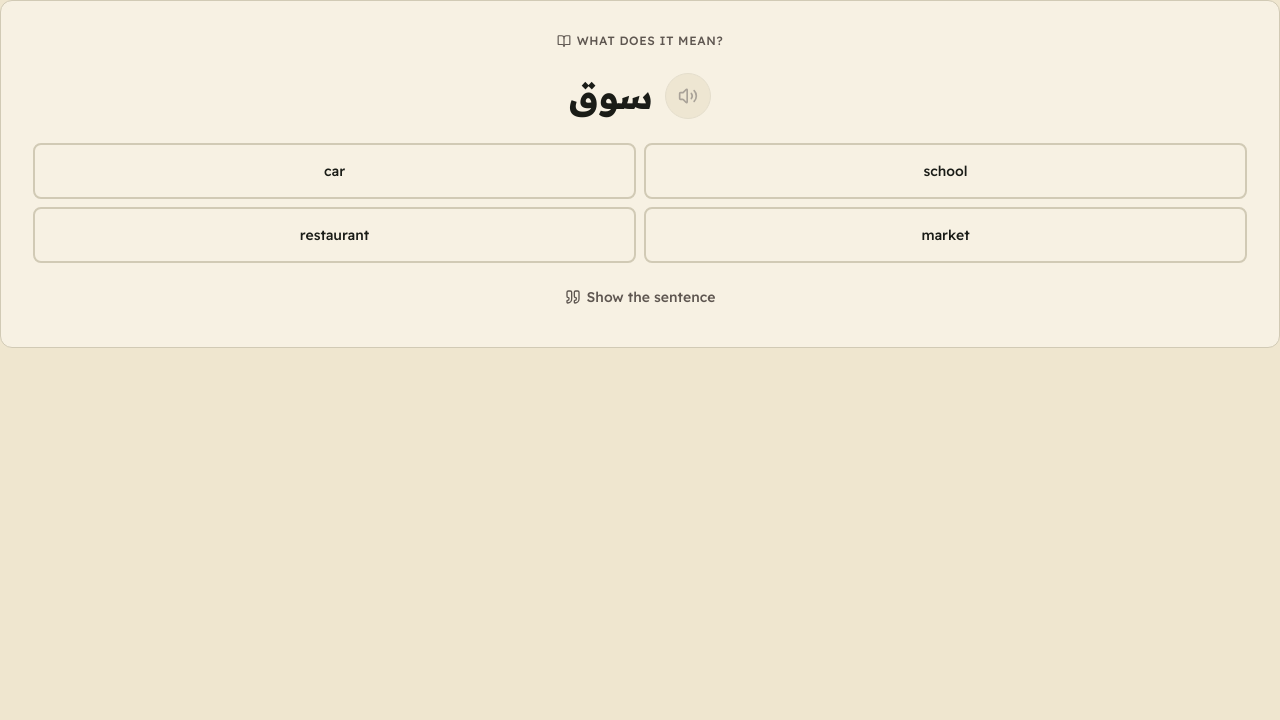
Test case: the sentence hint › is offered, and counts as help when opened before answering
The width and height of the screenshot is (1280, 720).
Click the button "Show the sentence" at (640, 297), box [553,279,727,315]
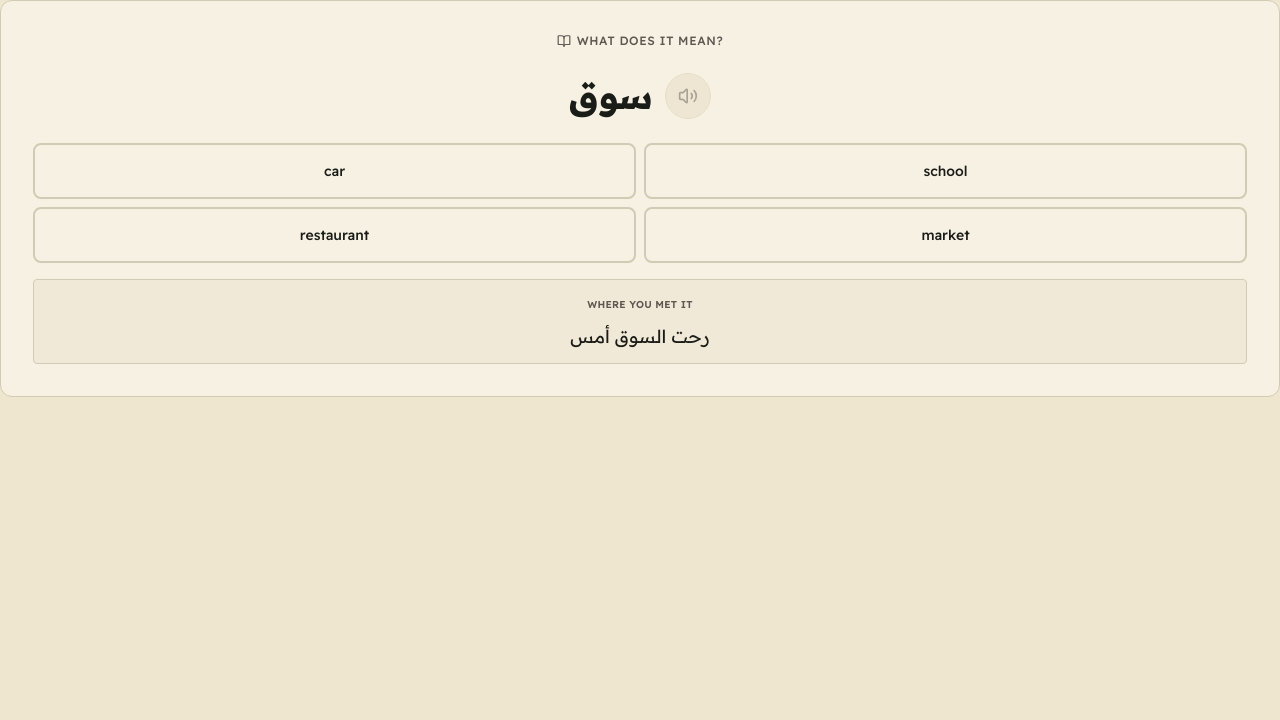
Expected: the text "I went to the market yesterday" is not shown
Expected: the text "رحت السوق أمس" is shown, [570,325,710,348]
Click the radio button labelled "market" at (946, 235), box [644,207,1247,263]
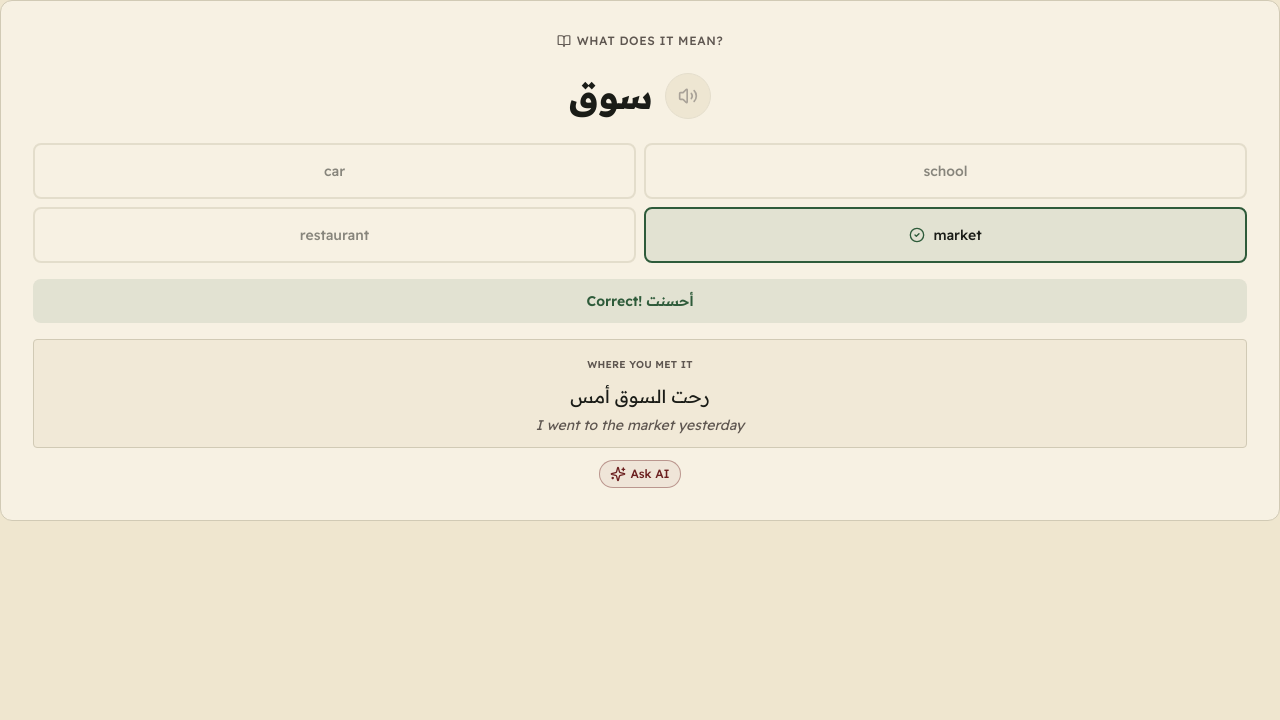
Expected: the text "I went to the market yesterday" is shown, [536,416,744,434]
